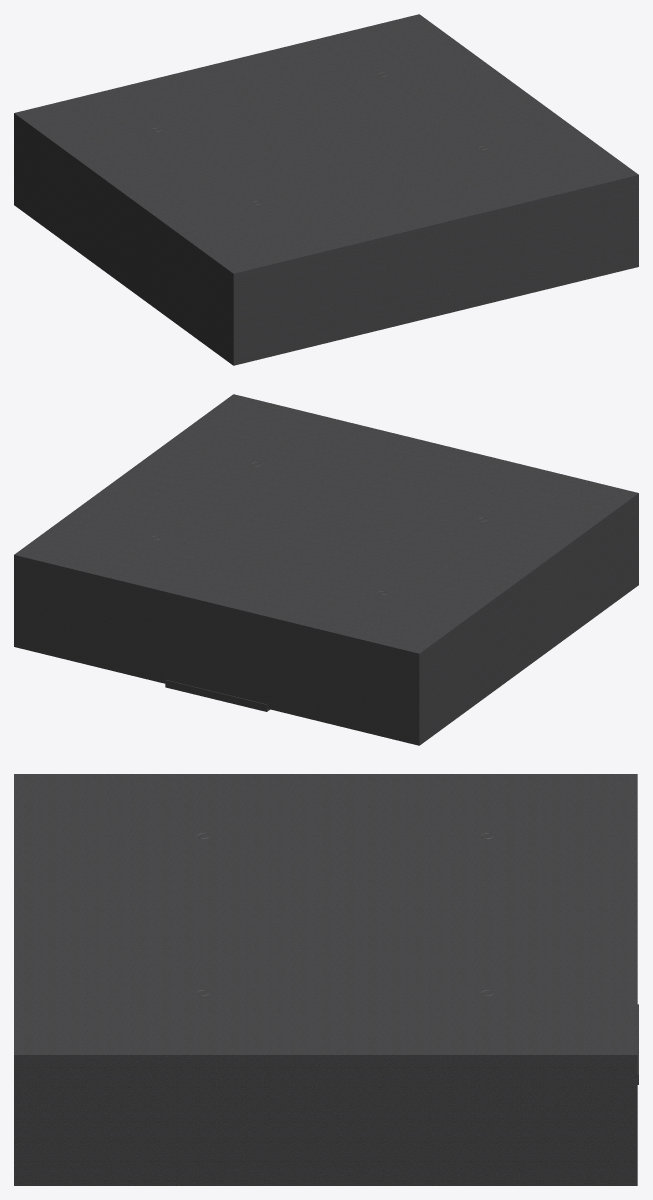
File: Club Big.FBX
The picture shows the model from 3 angles, top to bottom: view 1: azimuth 30°, elevation 25°; view 2: azimuth 150°, elevation 25°; view 3: azimuth 270°, elevation 25°; orthographic projection. The views are drawn at different scales.
Visible parts, largest first — view 1: Club Walls; view 2: Club Walls, stage; view 3: Club Walls.
Boxes of the visible parts, x1=… form: Club Walls: x1=14, y1=14, x2=638, y2=365; Club Walls: x1=14, y1=394, x2=638, y2=745; stage: x1=165, y1=680, x2=269, y2=711; Club Walls: x1=14, y1=774, x2=637, y2=1185.
Bounding box in the file's own units: 45.6 × 42.87 × 10.26.
